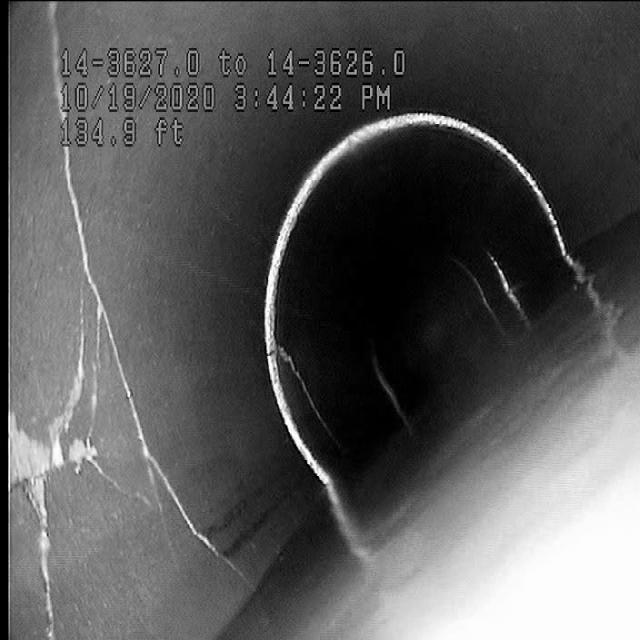Crack: (28, 195, 192, 596)
